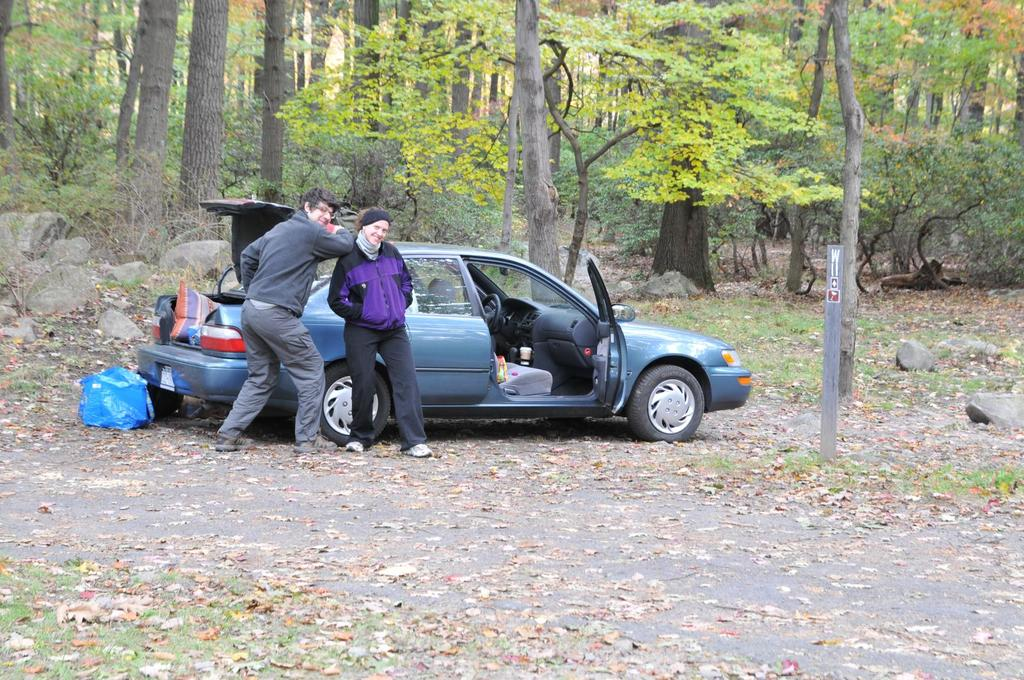Tree: (0, 0, 1023, 400)
